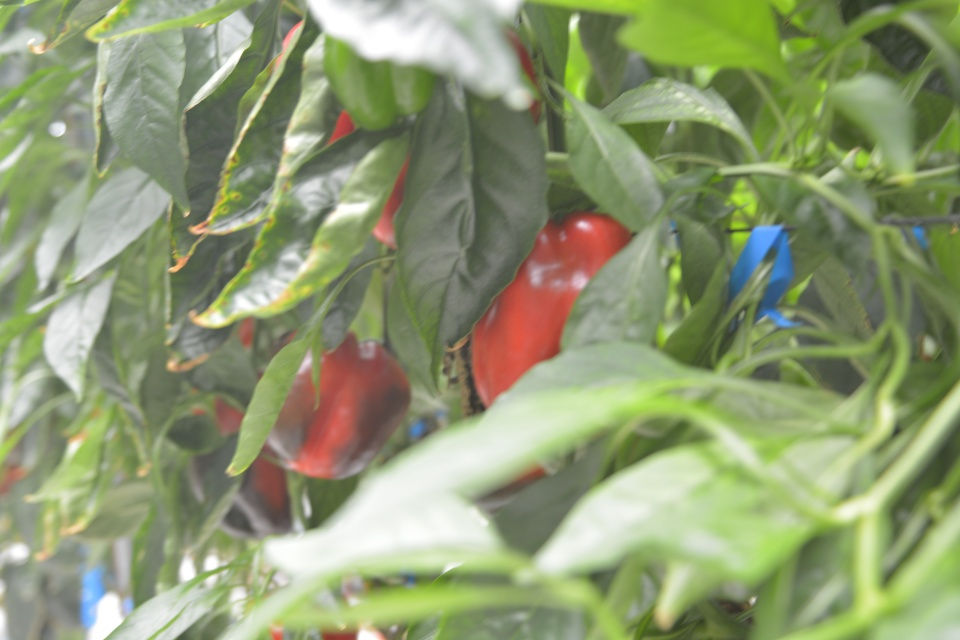fruit: (469, 209, 634, 408), (256, 324, 412, 484), (322, 36, 434, 132)
